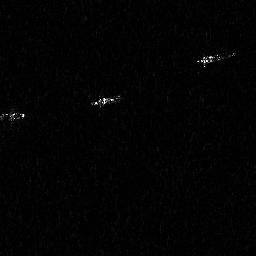ship: (195, 50, 240, 69), (88, 92, 124, 111), (1, 108, 26, 129)
